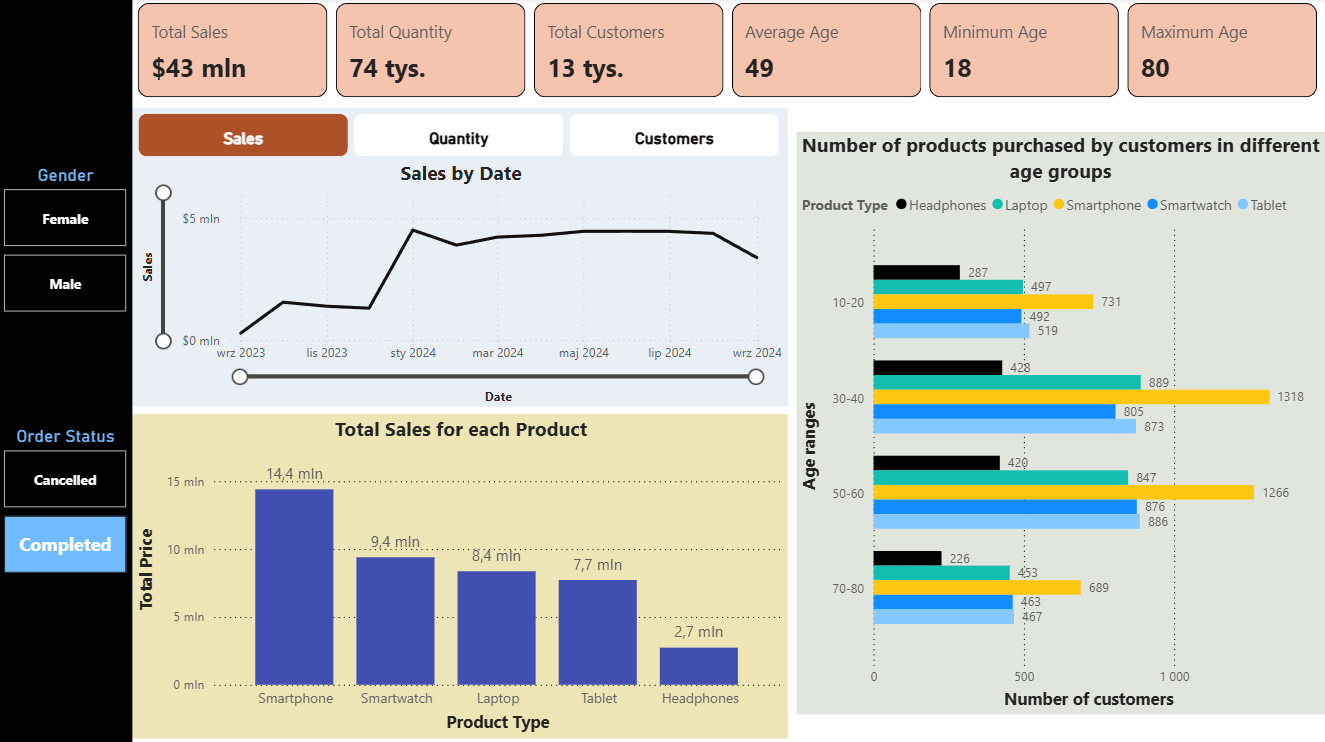

This screenshot's page, from the dashboard's own definition file:
{"tool":"powerbi","page":{"name":"Strona 1","canvas":[1280,720],"ordinal":0},"visuals":[{"type":"cardVisual","fields":{"Data":["_Measures.Total_Sales","_Measures.Total_Quantity","_Measures.Total_Customers","_Measures.Average Age","_Measures.Minimum Age","_Measures.Maximum Age"]},"box":[129.1,0,1151.1,101.1],"z":0},{"type":"lineChart","fields":{"Y":["_Measures.Total Sales"],"Category":["Electronic_sales_Sep2023-Sep2024.Purchase Date.Odmiana.Hierarchia dat.Rok","Electronic_sales_Sep2023-Sep2024.Purchase Date.Odmiana.Hierarchia dat.Miesiąc"]},"box":[129.1,155,632.2,240],"z":1000},{"type":"advancedSlicerVisual","fields":{"Values":["Measure Selector.Measure Selector"]},"box":[129.1,106,632.2,53.6],"z":2000},{"type":"columnChart","title":"Total Sales for each Product","fields":{"Category":["Electronic_sales_Sep2023-Sep2024.Product Type"],"Y":["Sum(Electronic_sales_Sep2023-Sep2024.Total Price)"]},"box":[129.1,402,632.2,313.1],"z":3000},{"type":"clusteredBarChart","title":"Number of products purchased by customers in different age groups","fields":{"Series":["Electronic_sales_Sep2023-Sep2024.Product Type"],"Y":["CountNonNull(Electronic_sales_Sep2023-Sep2024.Customer ID)"],"Category":["Electronic_sales_Sep2023-Sep2024.Age (grupy)"]},"box":[770,128.8,510,562.5],"z":4000},{"type":"shape","box":[0,0,128.8,720],"z":5000},{"type":"advancedSlicerVisual","fields":{"Values":["Electronic_sales_Sep2023-Sep2024.Order Status"]},"box":[0,412.5,128.8,147.5],"z":6000},{"type":"advancedSlicerVisual","fields":{"Values":["Electronic_sales_Sep2023-Sep2024.Gender"]},"box":[0,160,128.8,147.5],"z":7000}]}

Visuals, with their boxes in screenshot pixels (x1, y1, x2, y2), scaled from the page's 1280x720 canvas onto the 1325x742 screenshot:
cardVisual - _Measures.Total_Sales x _Measures.Total_Quantity: BBox(134, 0, 1324, 104)
lineChart - _Measures.Total Sales x Electronic_sales_Sep2023-Sep2024.Purchase Date.Odmiana.Hierarchia dat.Rok: BBox(134, 160, 788, 407)
advancedSlicerVisual - Measure Selector.Measure Selector: BBox(134, 109, 788, 164)
"Total Sales for each Product" columnChart: BBox(134, 414, 788, 737)
"Number of products purchased by customers in different age groups" clusteredBarChart: BBox(797, 133, 1324, 712)
shape: BBox(0, 0, 133, 741)
advancedSlicerVisual - Electronic_sales_Sep2023-Sep2024.Order Status: BBox(0, 425, 133, 577)
advancedSlicerVisual - Electronic_sales_Sep2023-Sep2024.Gender: BBox(0, 165, 133, 317)
